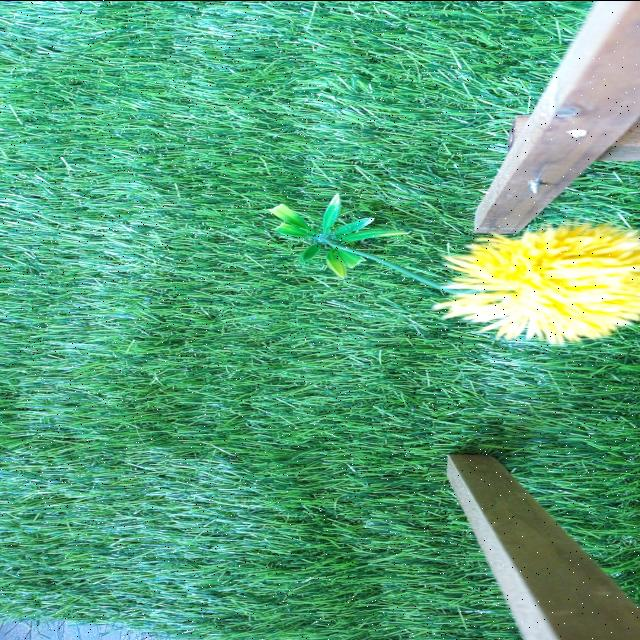base: (267, 193, 409, 279)
flower: (432, 225, 640, 347)
